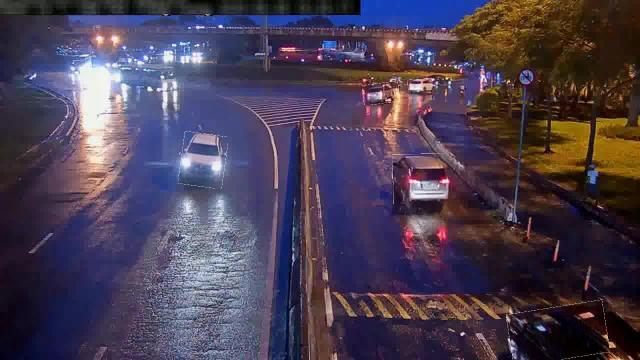Car: (508, 303, 608, 359), (394, 154, 448, 204), (180, 132, 228, 187), (362, 83, 400, 105), (408, 79, 432, 91)
